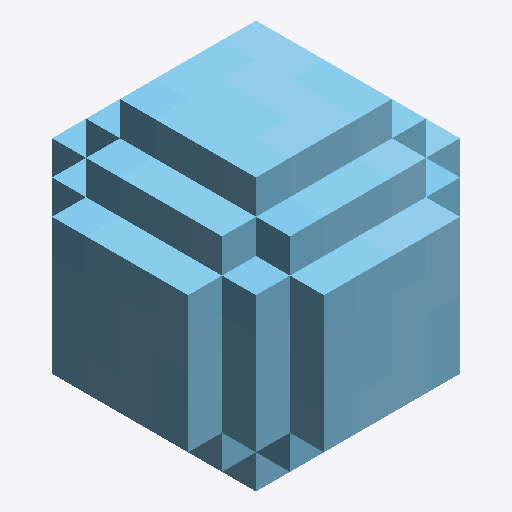
Isometric view (azimuth 45°, elevation 35.3°) of a Minecraft model made of 19 cuboids, textured from the same repository.
Parts seen in each view (by area): element 5, element 7, element 2, element 14, element 9, element 17, element 8, element 16, element 13, element 15, element 4, element 6 (+3 smaller).
Boxes of the visible parts, box(x1,y1,x2,y2) form: element 5: box(52, 197, 221, 451); element 7: box(290, 197, 459, 451); element 2: box(120, 21, 391, 215); element 14: box(222, 256, 289, 451); element 9: box(86, 139, 255, 274); element 17: box(256, 139, 425, 274); element 8: box(392, 99, 425, 157); element 16: box(86, 99, 119, 157); element 13: box(426, 158, 459, 215); element 15: box(52, 158, 85, 215); element 4: box(426, 119, 459, 176); element 6: box(52, 119, 85, 176).
Bounding box in the file's own units: 8 × 8 × 8.